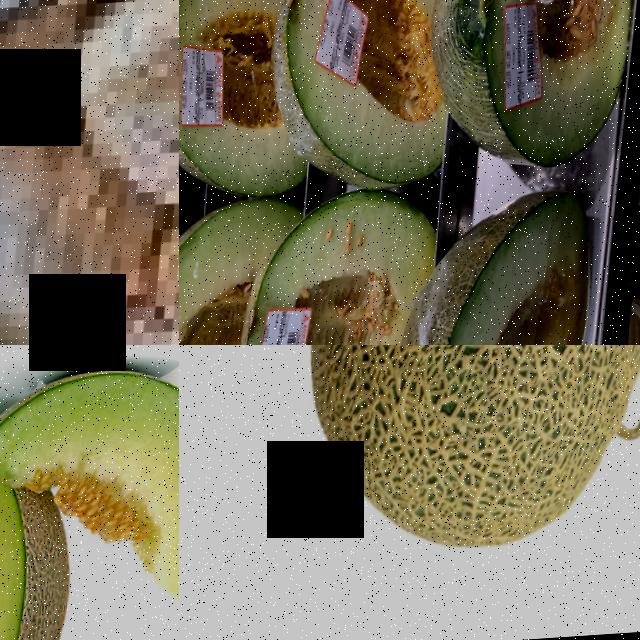melon: (285, 345, 640, 579), (286, 18, 501, 244), (38, 362, 179, 640), (179, 16, 303, 244), (273, 224, 505, 345), (179, 226, 284, 345)
